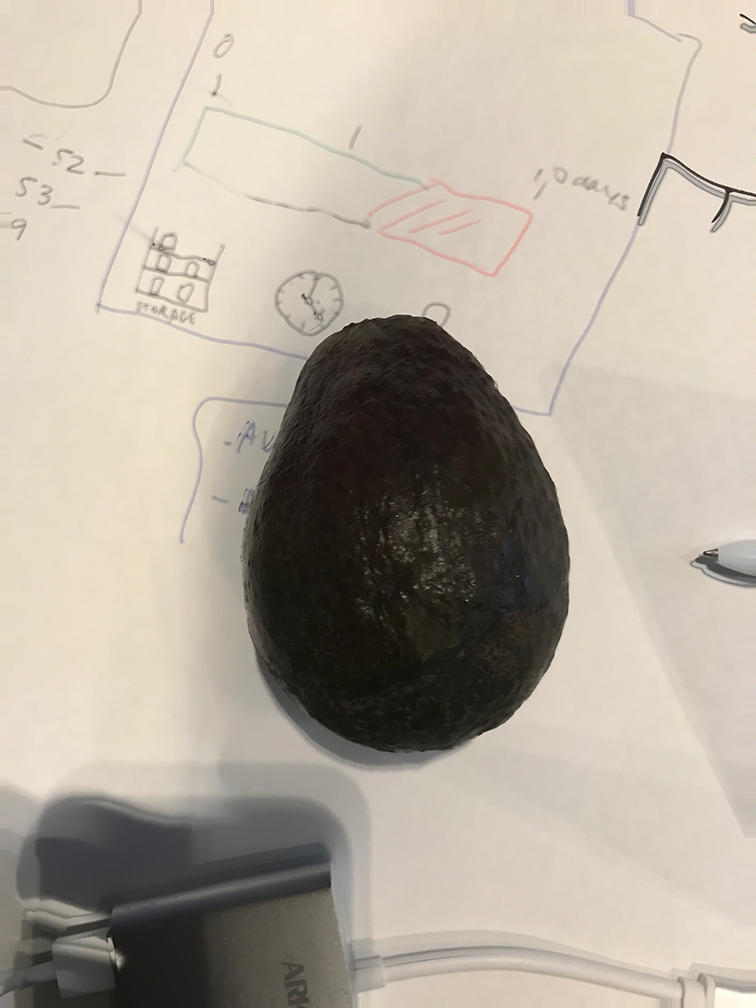avocado: (230, 297, 595, 781)
